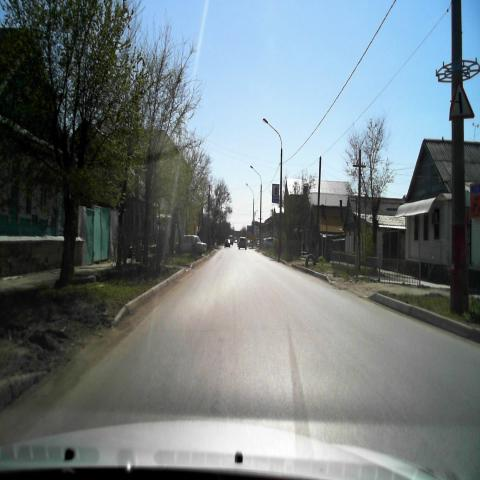2_3_3: (447, 81, 474, 122)
